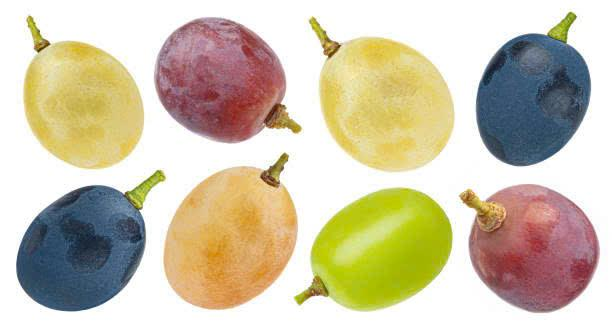grape: (305, 22, 470, 175), (0, 163, 152, 314), (456, 179, 602, 326), (154, 20, 303, 152), (164, 165, 288, 308), (305, 188, 442, 314), (488, 20, 599, 162), (28, 38, 150, 159)
